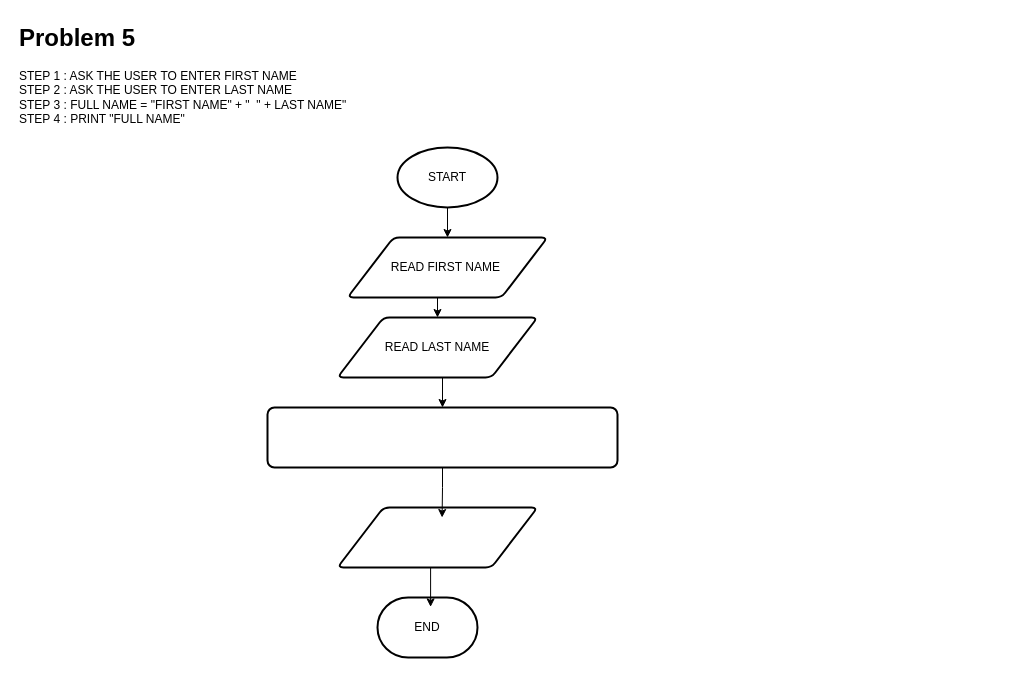
This 1024x675 diagram has some shape labels left out. The shapes that lost their labels are listed below. From the top down, each one's centre as x and y in pixels, then its label:
(x=442, y=437): FULLNAME = " FIRST NAME " + " " + "LAST NAME"
(x=437, y=537): PRINT " FULL NAME"
